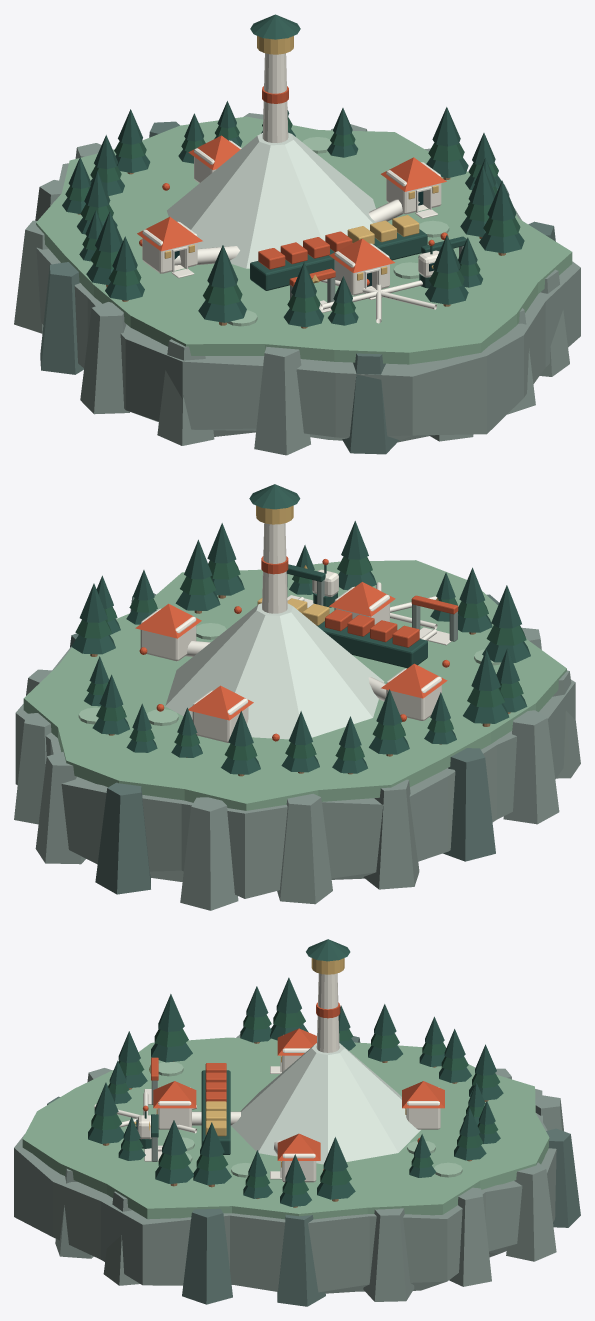
Rendered from chapter-07.glb.
3 views of the same model, one above another, from view 1: azimuth 30°, elevation 25°; view 2: azimuth 150°, elevation 25°; view 3: azimuth 270°, elevation 25° (orthographic). The views are drawn at different scales.
Parts seen in each view (by area): view 1: terrain, rock_base, summit, cliff_facet_11, cliff_facet_09, cliff_facet_08, cliff_facet_12, landmark_assembly, cliff_facet_10, cliff_facet_07, beacon, landmark_workers.002 (+26 smaller); view 2: terrain, rock_base, summit, cliff_facet_05, cliff_facet_04, cliff_facet_06, cliff_facet_09, cliff_facet_08, cliff_facet_07, cliff_facet_03, cliff_facet_02, landmark_assembly (+24 smaller); view 3: terrain, rock_base, summit, cliff_facet_16, cliff_facet_01, cliff_facet_03, cliff_facet_00, cliff_facet_02, cliff_facet_04, beacon, cliff_facet_15, roof_workers.003 (+22 smaller).
Boxes of the visible parts, x1,y1,x2,y2 form: terrain: (36, 116, 572, 364); rock_base: (36, 163, 580, 442); summit: (167, 133, 375, 268); cliff_facet_11: (254, 346, 310, 455); cliff_facet_09: (80, 302, 129, 414); cliff_facet_08: (40, 262, 83, 374); cliff_facet_12: (342, 353, 399, 454); landmark_assembly: (250, 229, 427, 290); cliff_facet_10: (157, 339, 214, 445); cliff_facet_07: (14, 220, 48, 333); beacon: (262, 53, 288, 142); landmark_workers.002: (142, 221, 197, 273); terrain: (23, 560, 566, 810); rock_base: (15, 646, 575, 898); summit: (165, 603, 384, 739); cliff_facet_05: (180, 797, 238, 910); cliff_facet_04: (95, 782, 150, 894); cliff_facet_06: (277, 793, 332, 904); cliff_facet_09: (503, 710, 559, 824); cliff_facet_08: (443, 748, 495, 861); cliff_facet_07: (363, 779, 419, 889); cliff_facet_03: (35, 751, 85, 864); cliff_facet_02: (14, 713, 51, 824); landmark_assembly: (317, 621, 427, 668); terrain: (22, 1037, 549, 1219); rock_base: (14, 1089, 556, 1293); summit: (231, 1043, 420, 1164); cliff_facet_16: (182, 1208, 232, 1304); cliff_facet_01: (363, 1208, 414, 1301); cliff_facet_03: (506, 1162, 556, 1261); cliff_facet_00: (277, 1214, 325, 1306); cliff_facet_02: (449, 1187, 491, 1286); cliff_facet_04: (546, 1128, 580, 1227); beacon: (316, 973, 339, 1052); cliff_facet_15: (103, 1191, 139, 1285); roof_workers.003: (153, 1081, 196, 1108).
Bounding box in the file's own units: 11.25 × 7.6 × 13.67.
